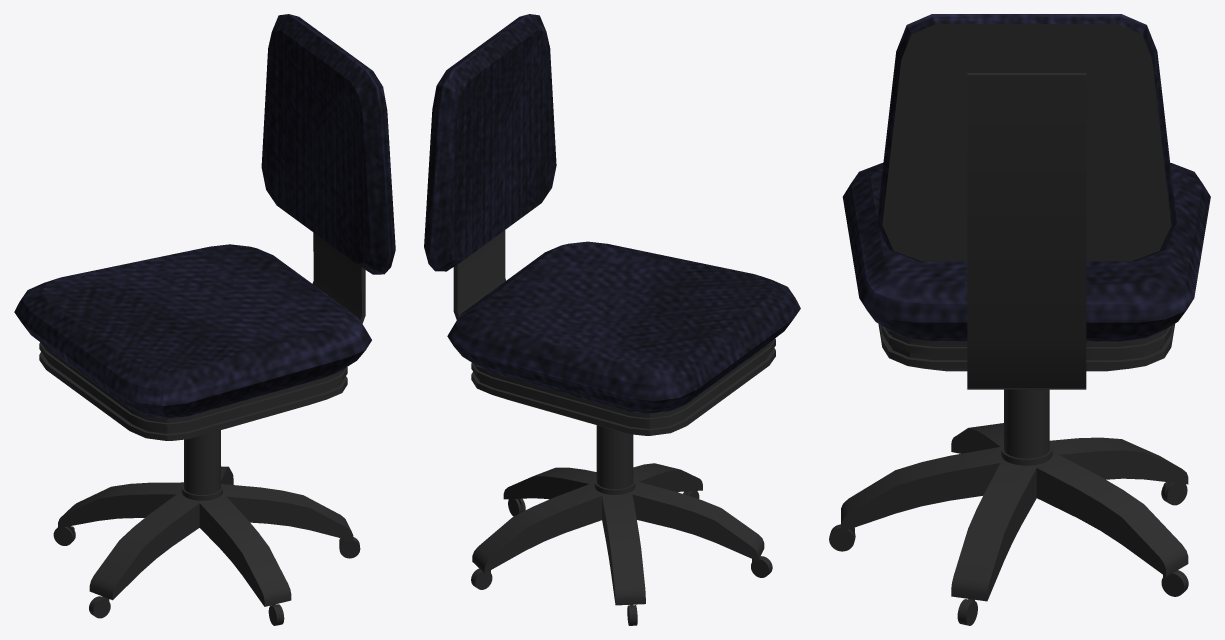
Rendered from sillaOficina2.fbx.
The picture shows the model from 3 angles, left to right: view 1: azimuth 30°, elevation 25°; view 2: azimuth 150°, elevation 25°; view 3: azimuth 270°, elevation 25°; orthographic projection. The views are drawn at different scales.
Visible parts, largest first — view 1: sillaOficina2; view 2: sillaOficina2; view 3: sillaOficina2.
Boxes of the visible parts, box(x1,y1,x2,y2) form: sillaOficina2: box(14, 14, 395, 625); sillaOficina2: box(424, 14, 800, 625); sillaOficina2: box(829, 14, 1210, 625).
Bounding box in the file's own units: 971 × 1683 × 953.
